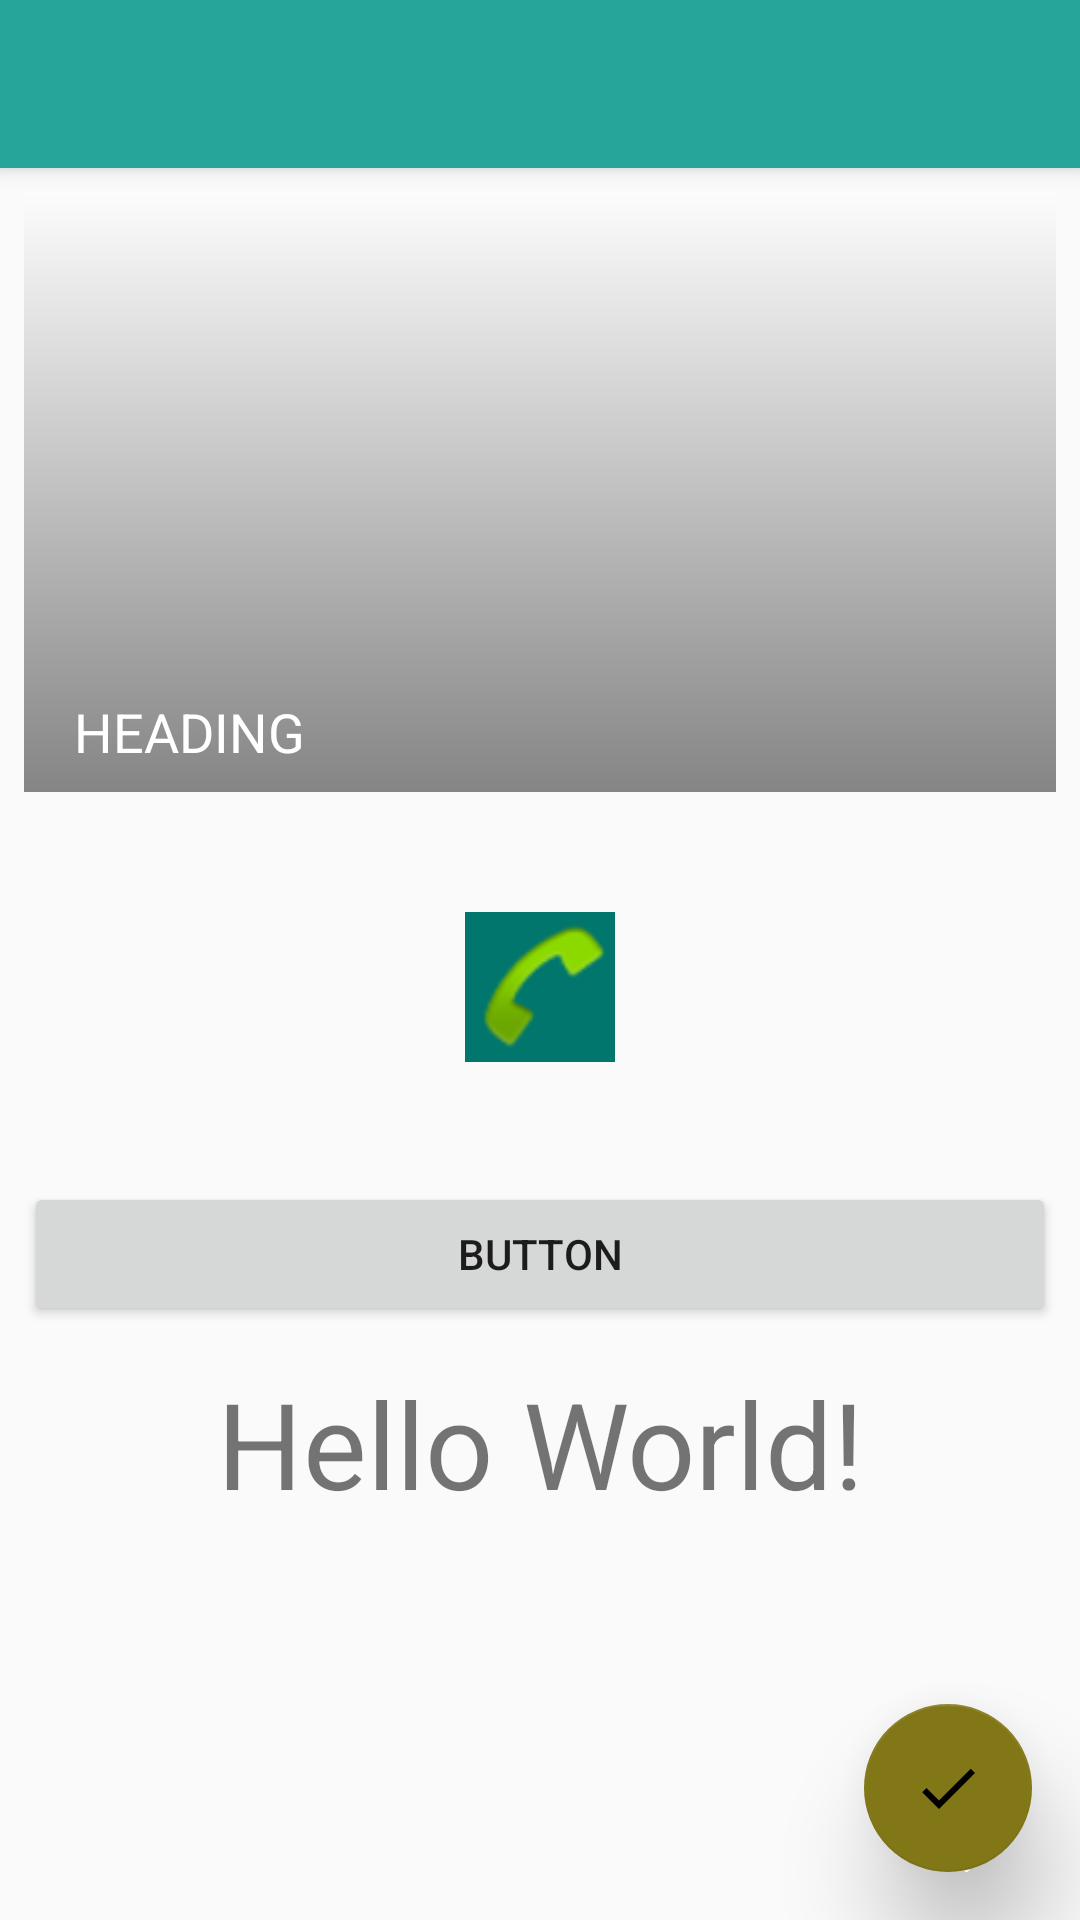

Screen size 1080*1920. Icon name, then its box in pixels as (x1, y1, x2, y2):
check: (864, 1704, 1032, 1872)
sym action call: (465, 912, 615, 1062)
